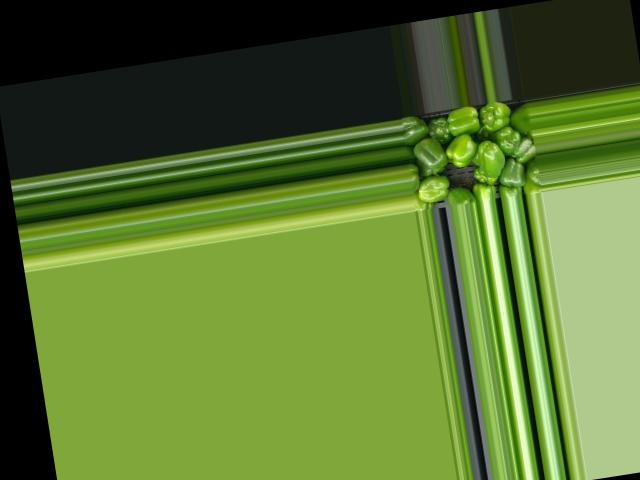bell_pepper: (509, 110, 534, 140)
